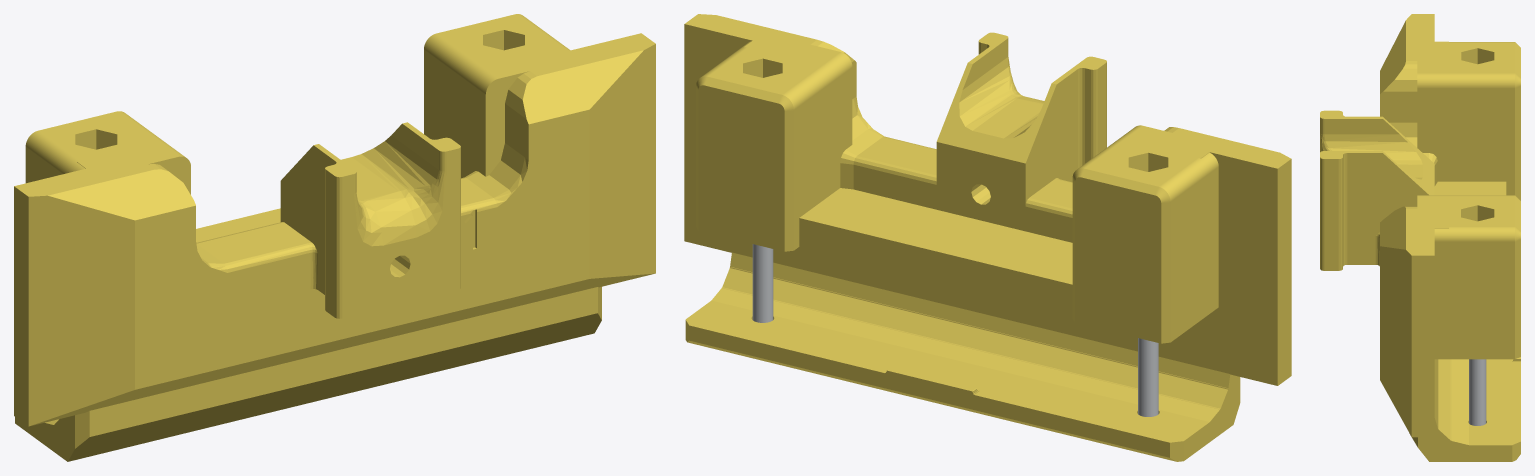
File: neck_piece.glb
3 views of the same model, side by side, from view 1: azimuth 30°, elevation 25°; view 2: azimuth 150°, elevation 25°; view 3: azimuth 270°, elevation 25° (orthographic). The views are drawn at different scales.
Parts seen in each view (by area): view 1: neck_p_neck_piece_reinforced; view 2: neck_p_neck_piece_reinforced, neck_p_neck_screws; view 3: neck_p_neck_piece_reinforced, neck_p_neck_screws.
Part boxes in pixels (<box>): neck_p_neck_piece_reinforced: <box>14,14,655,461</box>; neck_p_neck_piece_reinforced: <box>684,14,1291,461</box>; neck_p_neck_screws: <box>752,244,1158,416</box>; neck_p_neck_piece_reinforced: <box>1320,14,1520,461</box>; neck_p_neck_screws: <box>1469,359,1486,425</box>.
Bounding box in the file's own units: 0.1 × 0.0435 × 0.0351.
